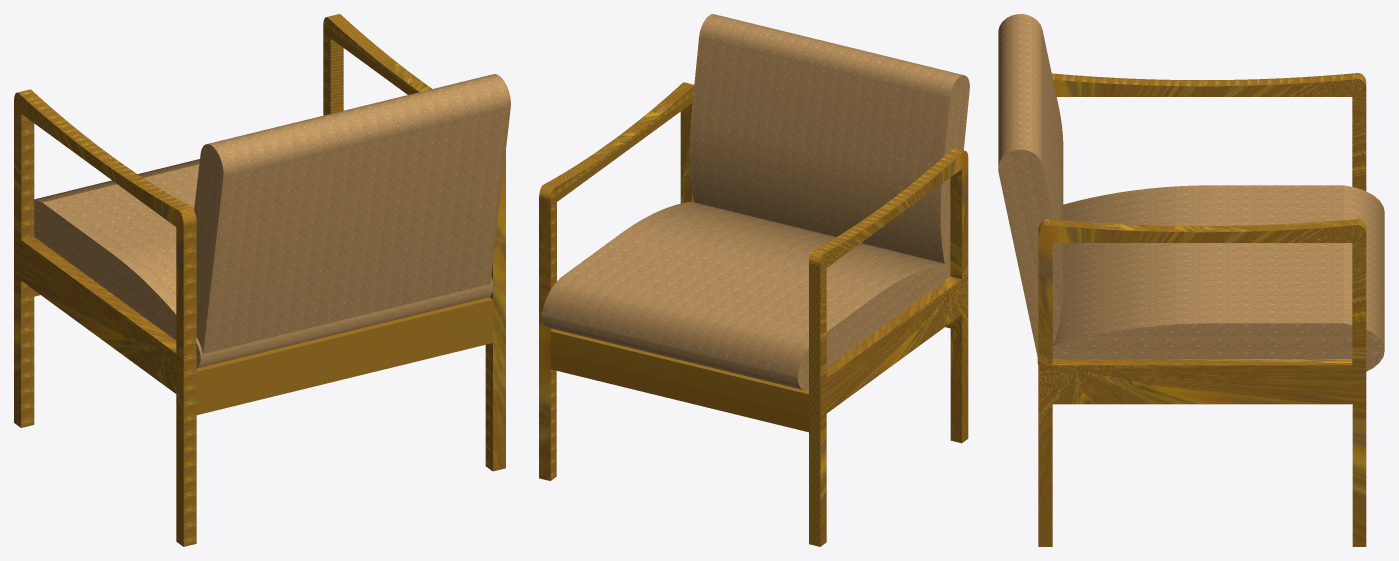
3 renders of one model, left to right at view 1: azimuth 30°, elevation 25°; view 2: azimuth 150°, elevation 25°; view 3: azimuth 270°, elevation 25°, orthographic. The views are drawn at different scales.
Visible parts, largest first — view 1: mesh19_mesh19-geometry, mesh5_mesh5-geometry, mesh18_mesh18-geometry, mesh14_mesh14-geometry, mesh1_mesh1-geometry; view 2: mesh19_mesh19-geometry, mesh18_mesh18-geometry, mesh5_mesh5-geometry, mesh13_mesh13-geometry, mesh1_mesh1-geometry; view 3: mesh18_mesh18-geometry, mesh1_mesh1-geometry, mesh19_mesh19-geometry, mesh5_mesh5-geometry.
Part boxes in pixels (box(x1,y1,x2,y2)): mesh19_mesh19-geometry: box(194, 74, 510, 353); mesh5_mesh5-geometry: box(14, 89, 196, 546); mesh18_mesh18-geometry: box(34, 159, 493, 368); mesh14_mesh14-geometry: box(196, 297, 492, 414); mesh1_mesh1-geometry: box(323, 14, 505, 471); mesh19_mesh19-geometry: box(689, 14, 969, 263); mesh18_mesh18-geometry: box(542, 201, 950, 390); mesh5_mesh5-geometry: box(809, 148, 968, 546); mesh13_mesh13-geometry: box(550, 329, 808, 432); mesh1_mesh1-geometry: box(539, 82, 694, 480); mesh18_mesh18-geometry: box(1037, 185, 1384, 371); mesh1_mesh1-geometry: box(1038, 219, 1366, 546); mesh19_mesh19-geometry: box(998, 14, 1063, 356); mesh5_mesh5-geometry: box(1052, 73, 1366, 190).
Bounding box in the file's own units: 0.5283 × 0.6315 × 0.5675.
Materials: 7 (6 with a texture image).
